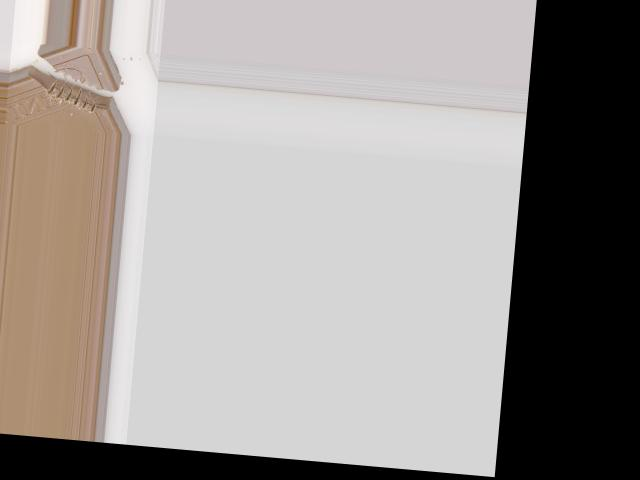chocolate: (5, 40, 139, 133)
